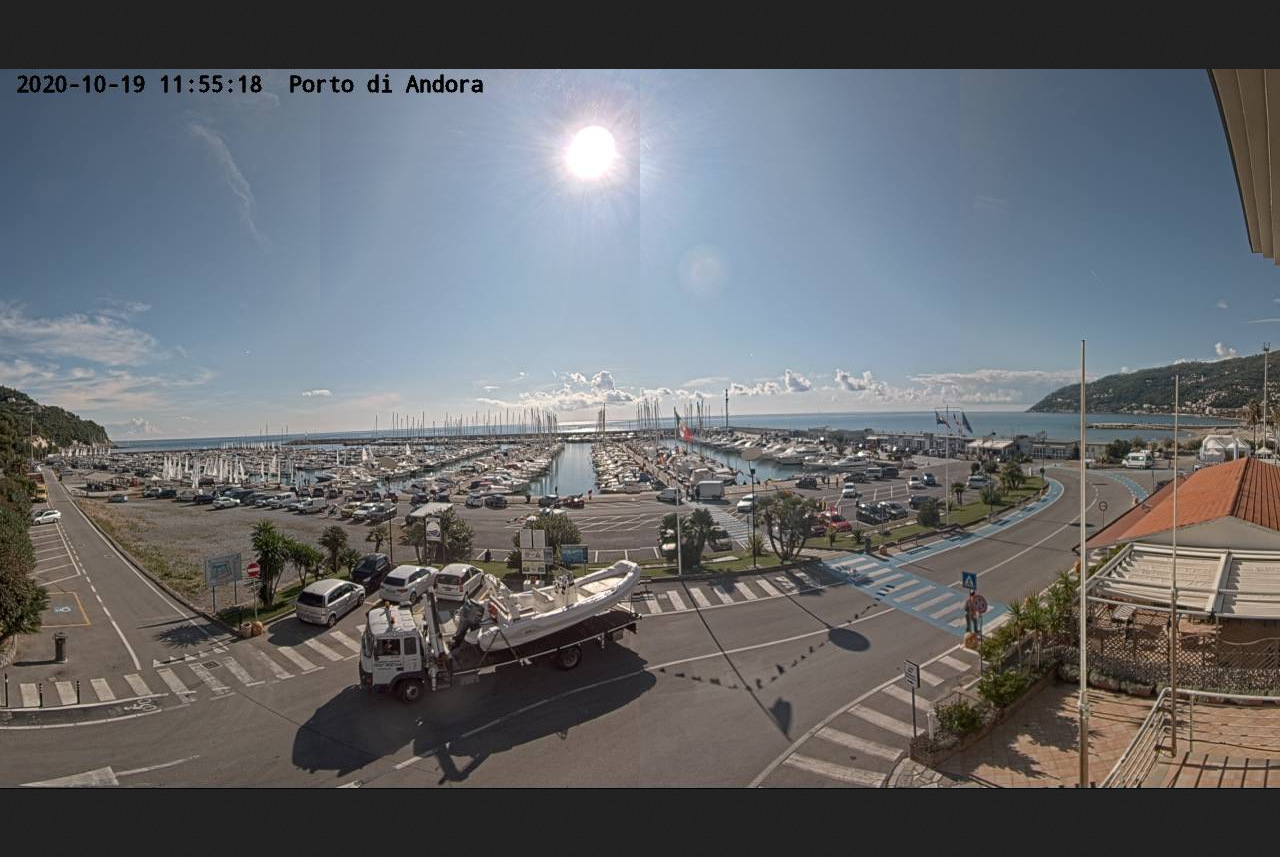maybe: (669, 413, 691, 449)
